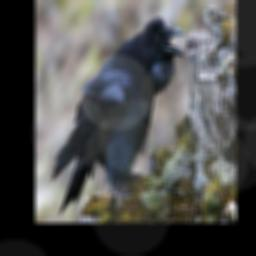Crow: (52, 15, 186, 218)
